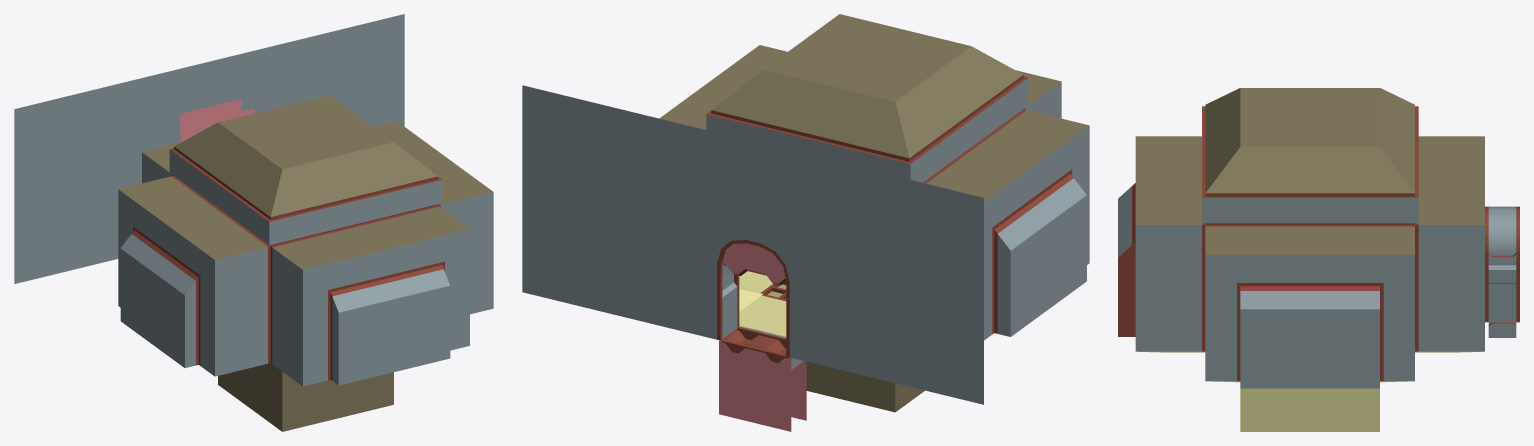
The model's file is Dragonfly_Crusher_StartRoom.fbx.
3 renders of one model, left to right at view 1: azimuth 30°, elevation 25°; view 2: azimuth 150°, elevation 25°; view 3: azimuth 270°, elevation 25°, orthographic. The views are drawn at different scales.
Visible parts, largest first — view 1: Start_Room, Door_Top; view 2: Start_Room, Door_Bottom, Door_Top; view 3: Start_Room.
Part boxes in pixels (x1,y1,x2,y2): Start_Room: [14, 14, 493, 431]; Door_Top: [180, 99, 254, 142]; Start_Room: [522, 14, 1089, 412]; Door_Bottom: [719, 329, 806, 431]; Door_Top: [722, 243, 786, 285]; Start_Room: [1118, 88, 1519, 431].
Bounding box in the file's own units: 28 × 18 × 23.
